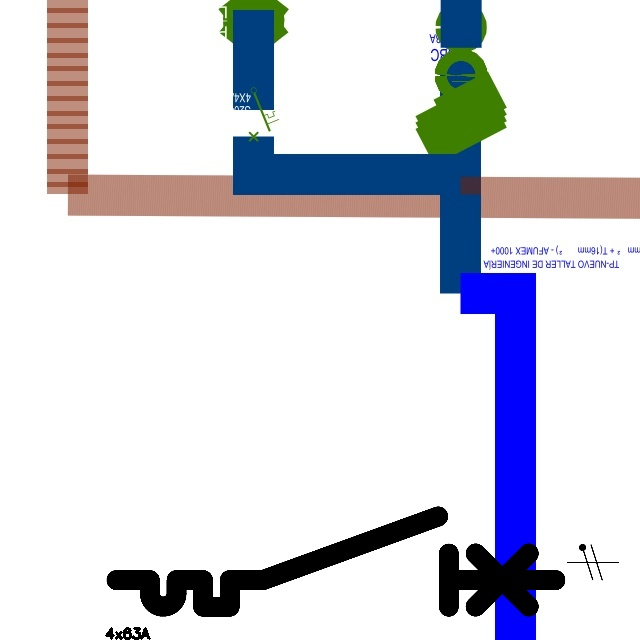interruptor_termomagnetico: (105, 505, 566, 618)
